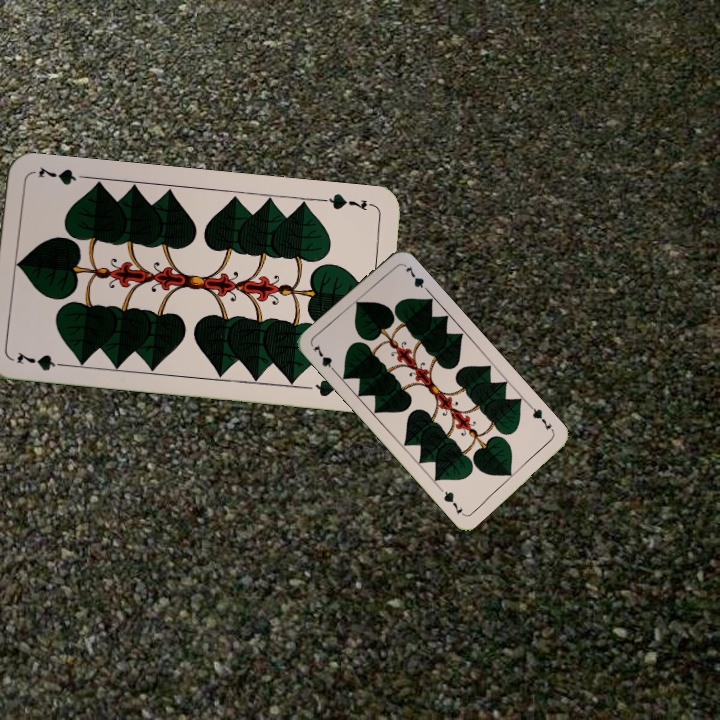G7: (13, 348, 71, 374), (319, 189, 378, 214), (308, 340, 340, 376), (526, 402, 557, 435)
